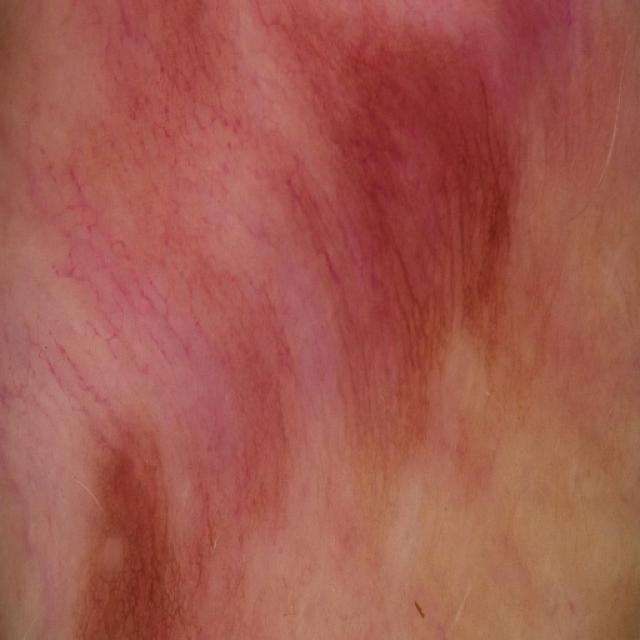Melanoma: (30, 21, 598, 629)
